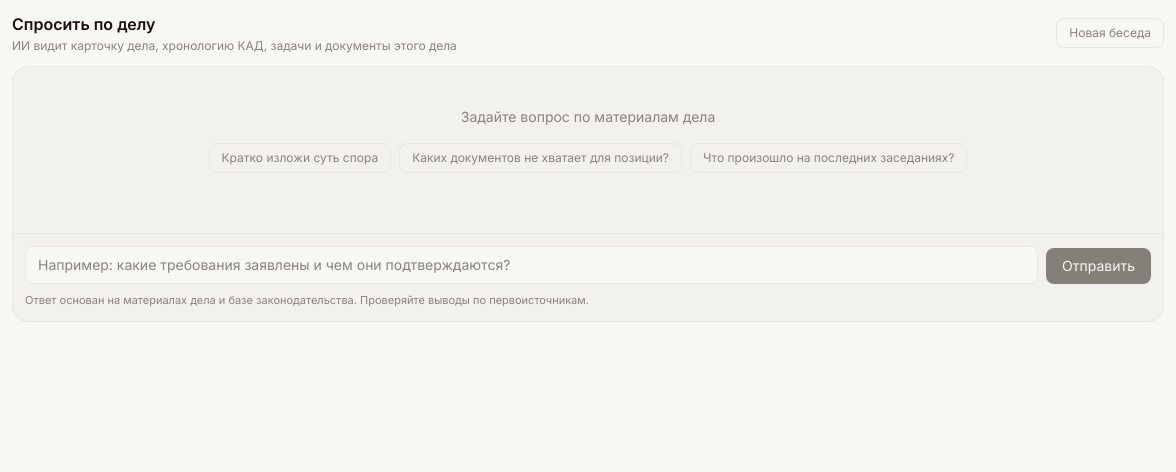
Scenario: CaseChatSection › sends the message with caseId and streams the answer
Type "Какой срок поставки?" into the text box with placeholder "Например: какие требования заявлены и чем они подтверждаются?".
click(532, 265); type("Какой срок поставки?")  # box [25,246,1038,284]
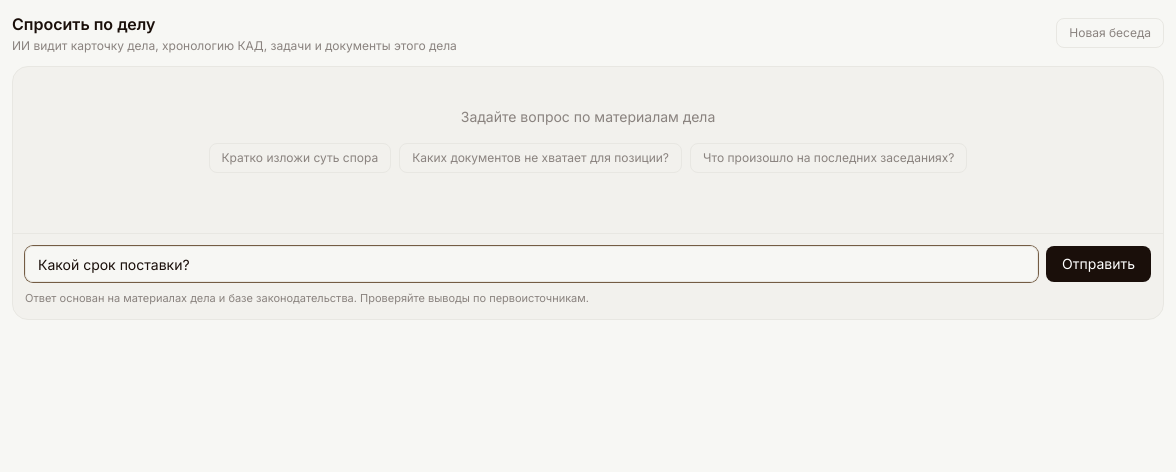
Click the button "Отправить".
click(1098, 264)  # box [1046,246,1151,282]
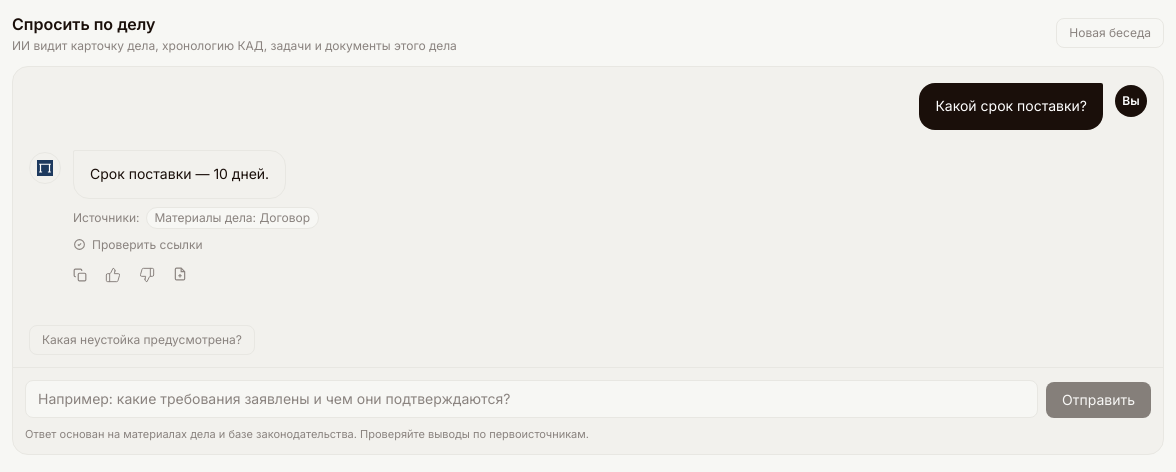
Result: the text "Срок поставки — 10 дней." is shown at [90,163,269,186]
Result: the text "Материалы дела: Договор" is shown at [146,206,319,228]
Result: the button "Какая неустойка предусмотрена?" is shown at [29,324,255,354]
